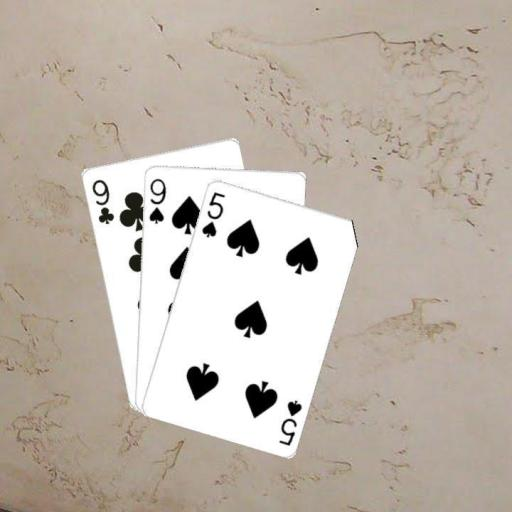card-corner: (275, 396, 304, 447), (88, 176, 115, 226), (199, 188, 226, 238), (146, 174, 167, 226)
